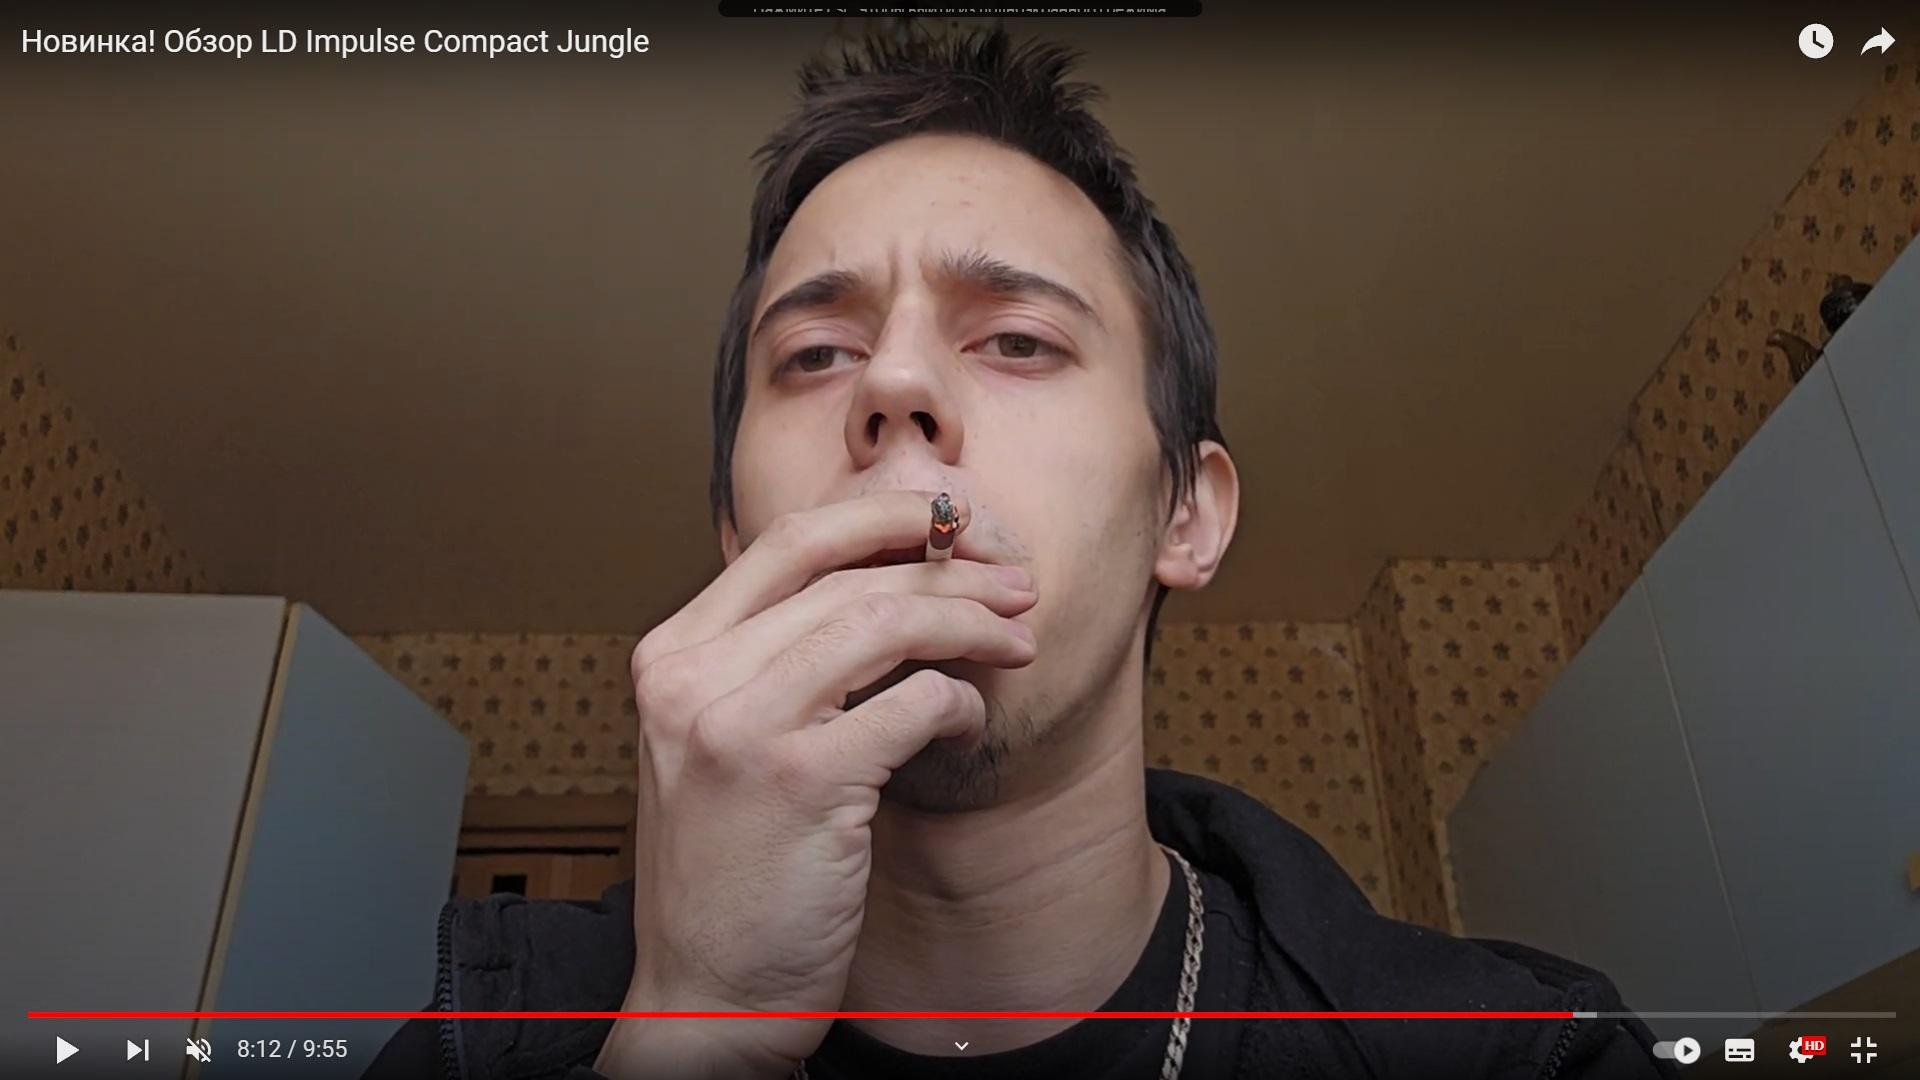cigarette: (924, 492, 960, 560)
